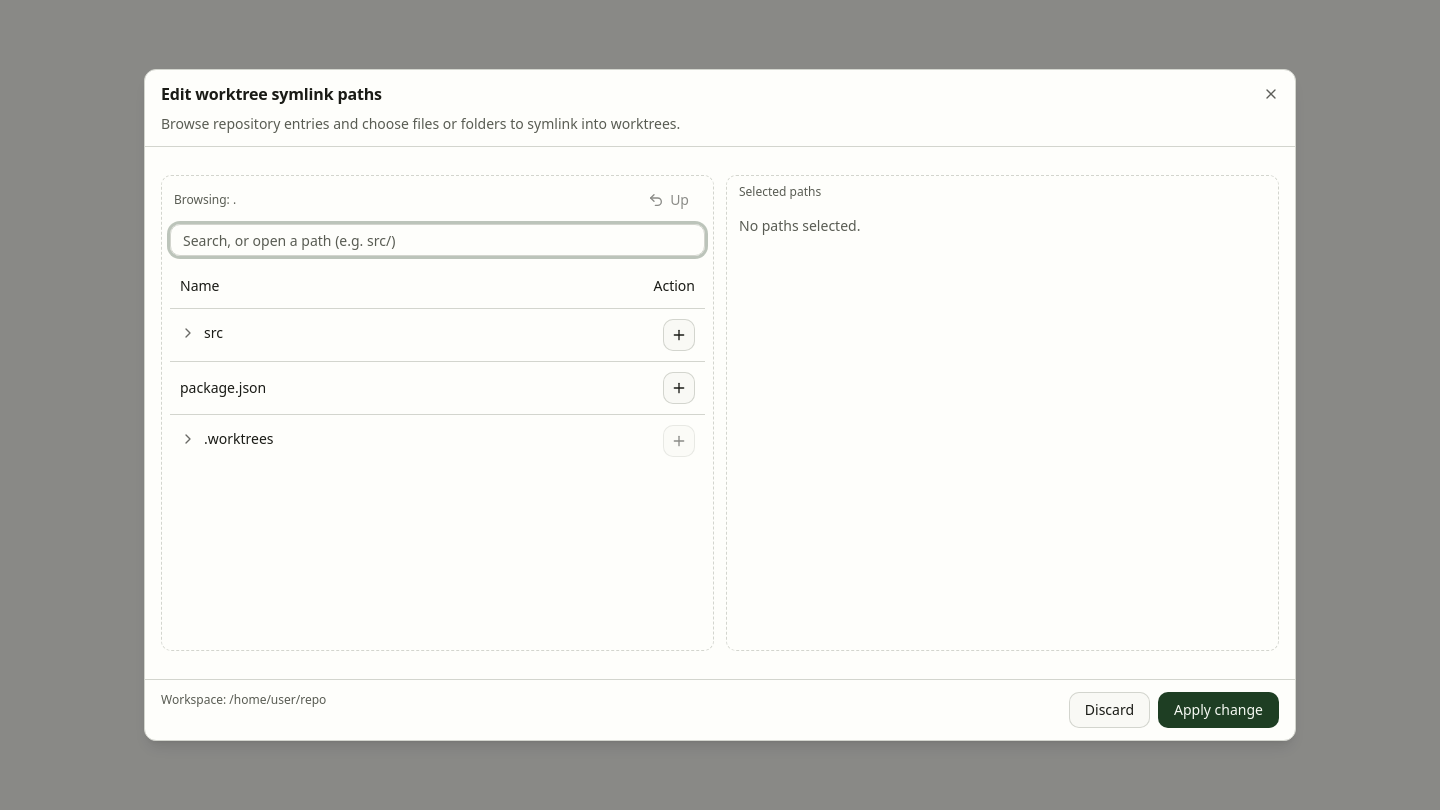
Test: WorktreeSymlinkPathsModal › filters entries based on search input
The width and height of the screenshot is (1440, 810).
Expected: the text "src" is shown, [204,323,223,343]
Type "package" into the field named "Search entries" at (438, 240), box [170,224,705,256]
Wait 300 ms
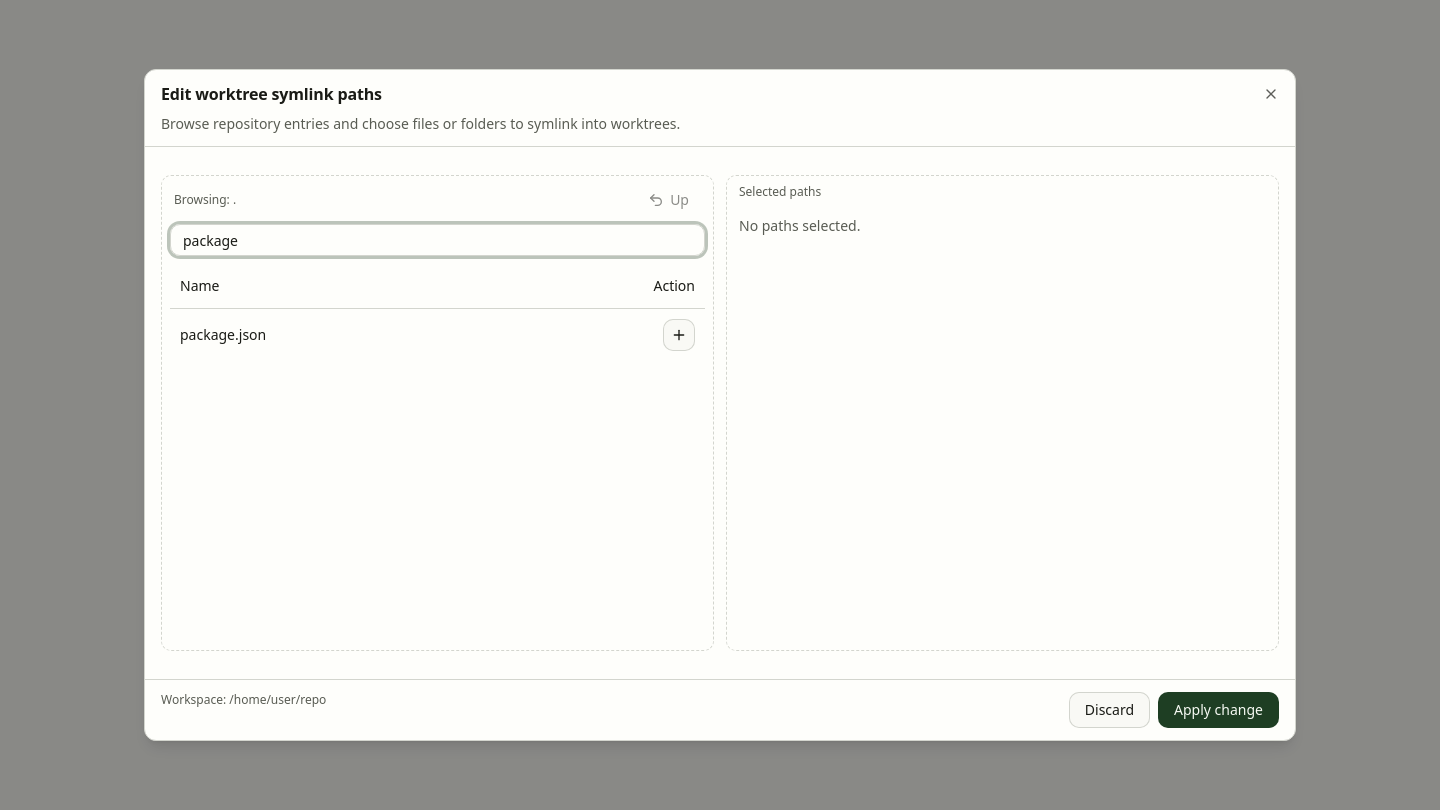
Expected: the text "package.json" is shown, [180,324,266,344]
Expected: the button "src" is gone
